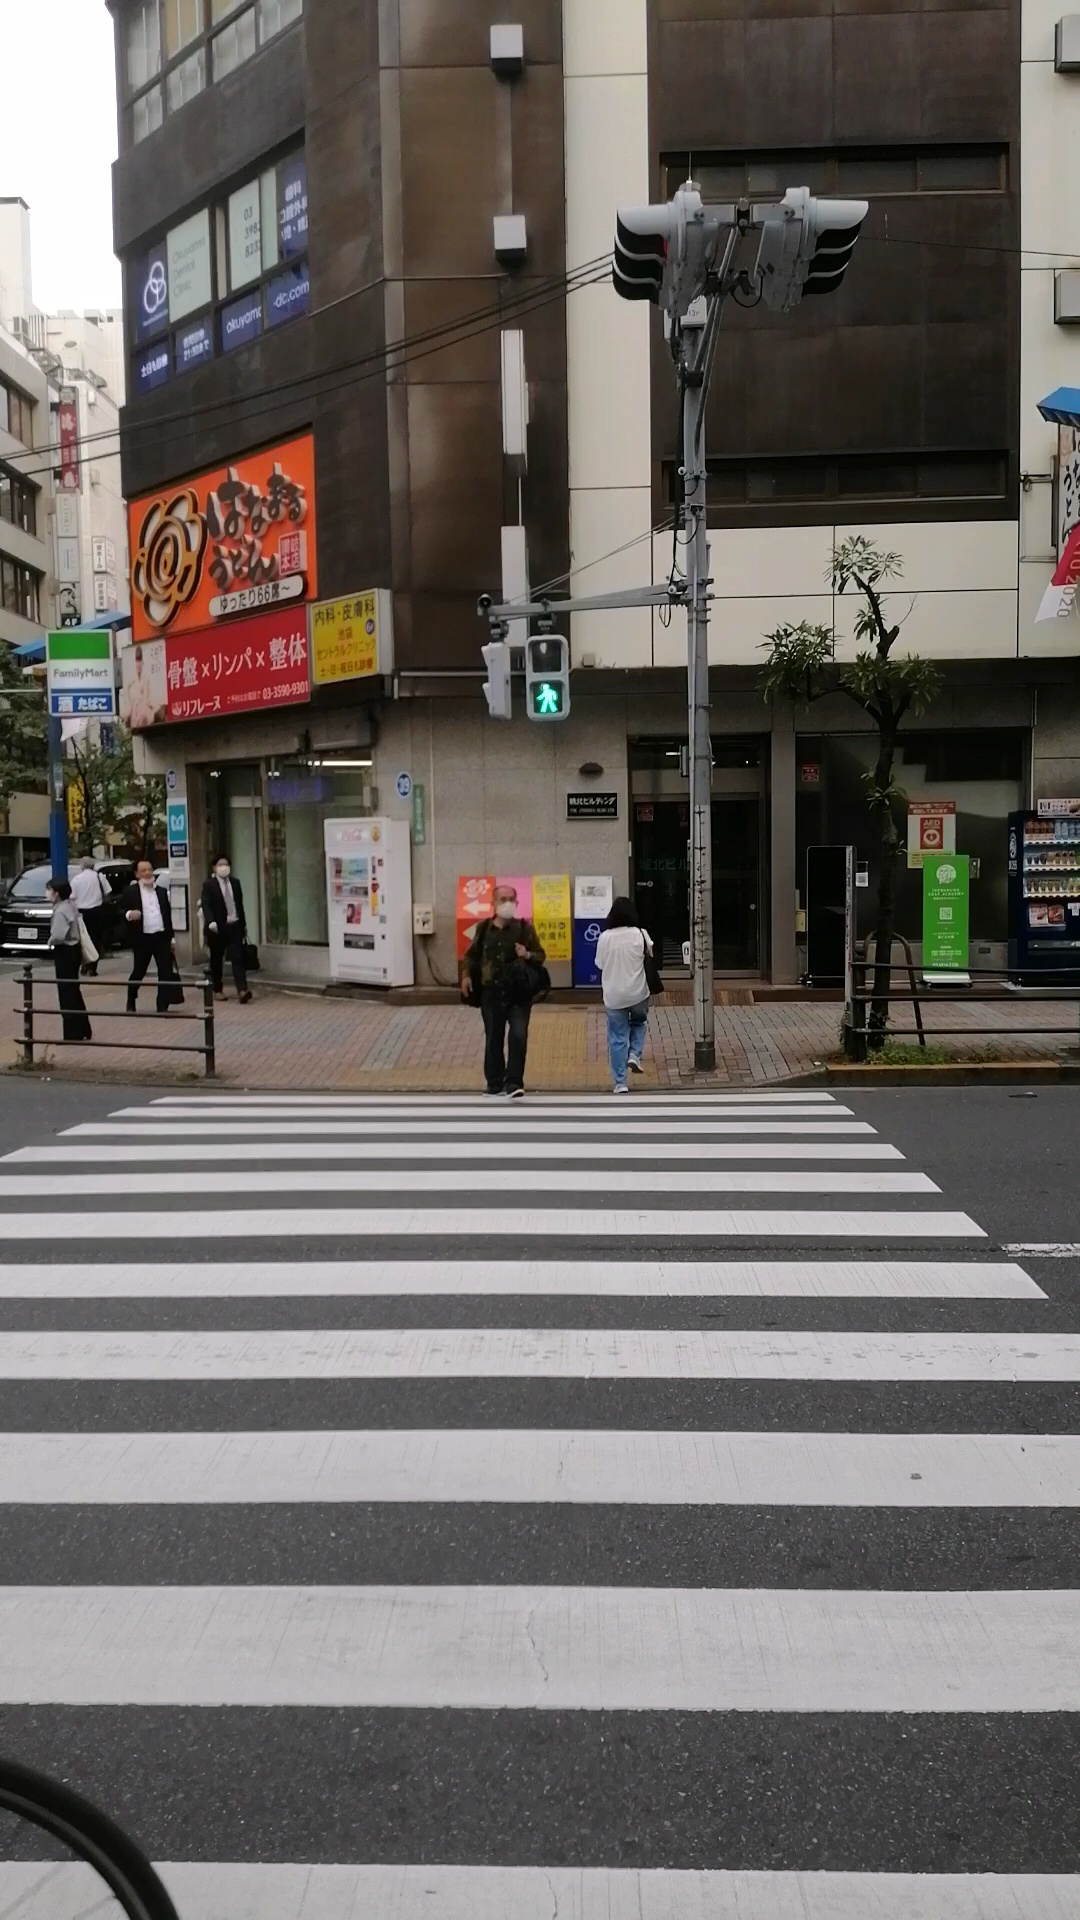green: (522, 633, 572, 720)
